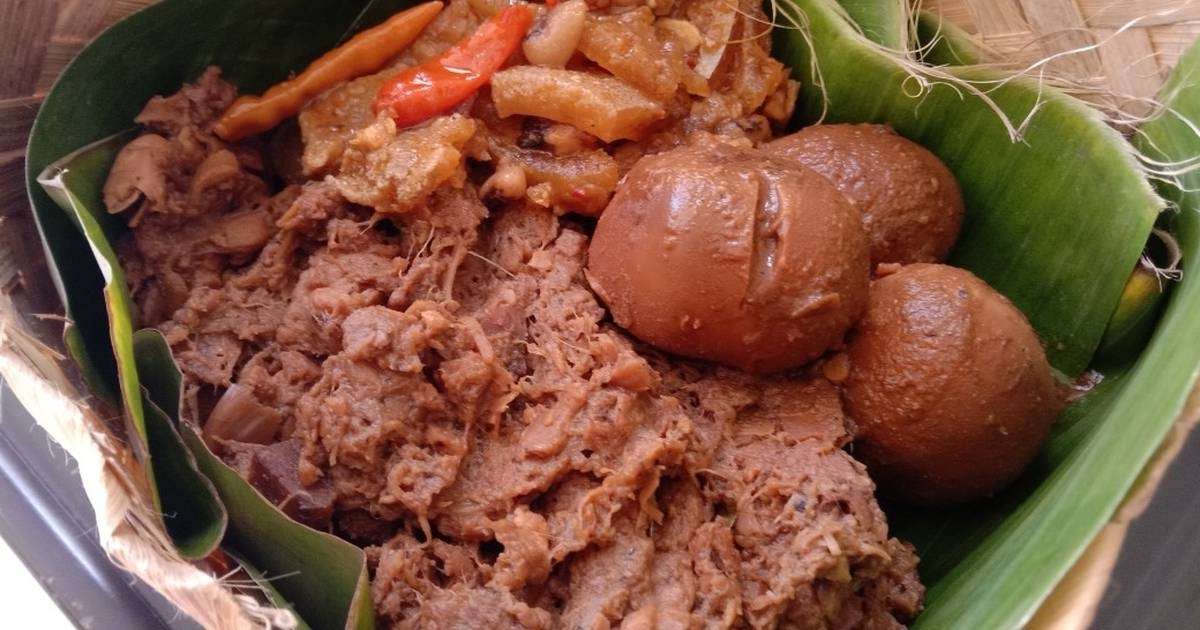gudeg: (105, 10, 1055, 630)
